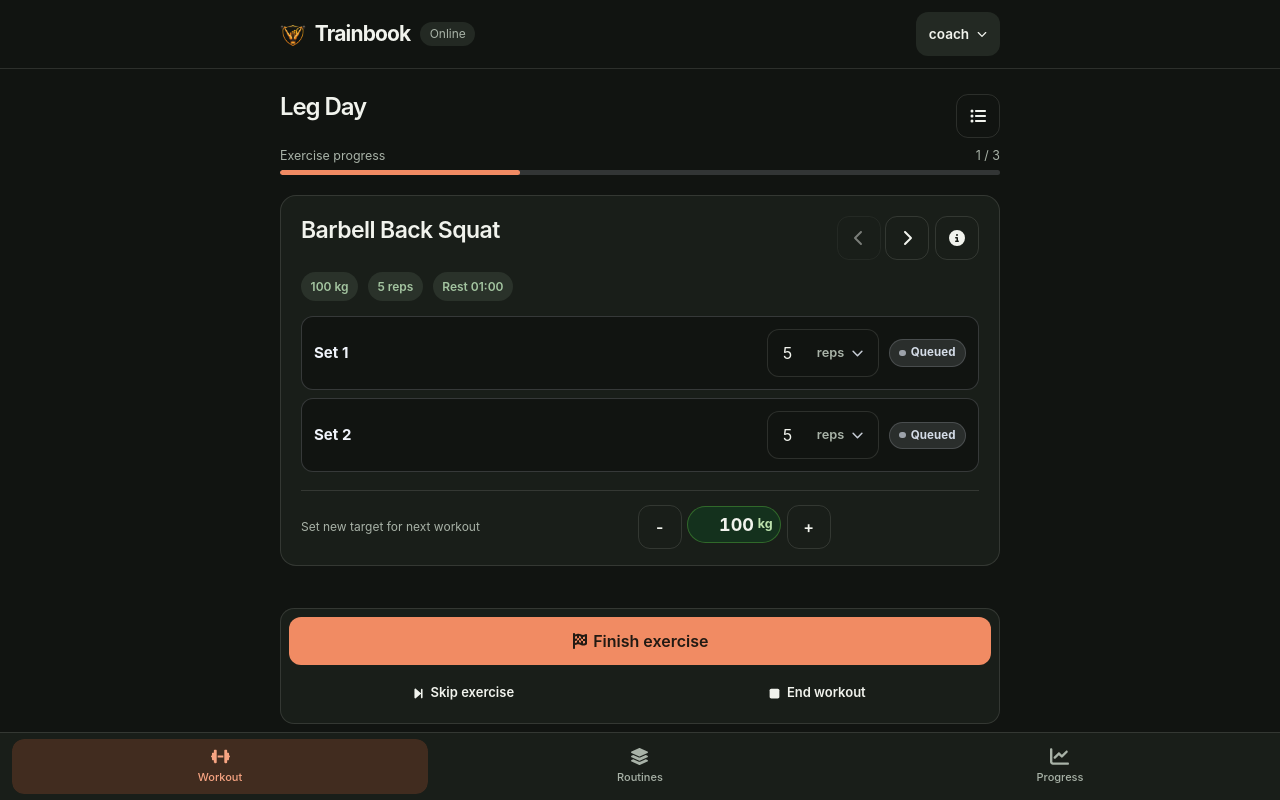
Test: App UI flows › lets you move back and forward between exercises while in workout mode
Expected: the text "Barbell Back Squat" is shown, [301, 216, 500, 245]
Expected: the button named "Previous exercise" is disabled, [837, 216, 881, 260]
Click the button named "Next exercise".
click(907, 238)  # box [885, 216, 929, 260]
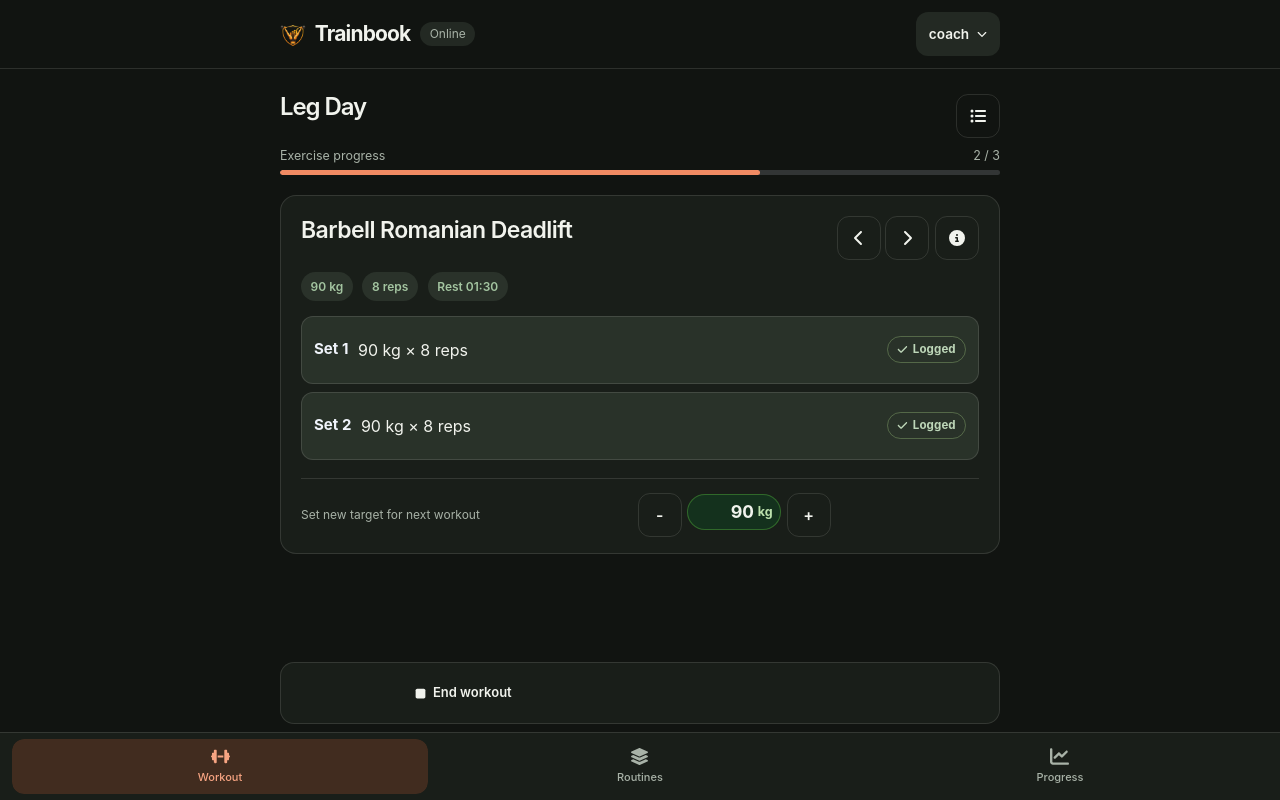
Result: the text "Barbell Romanian Deadlift" is shown at [301, 216, 572, 245]
Click the button named "Next exercise".
click(907, 238)  # box [885, 216, 929, 260]
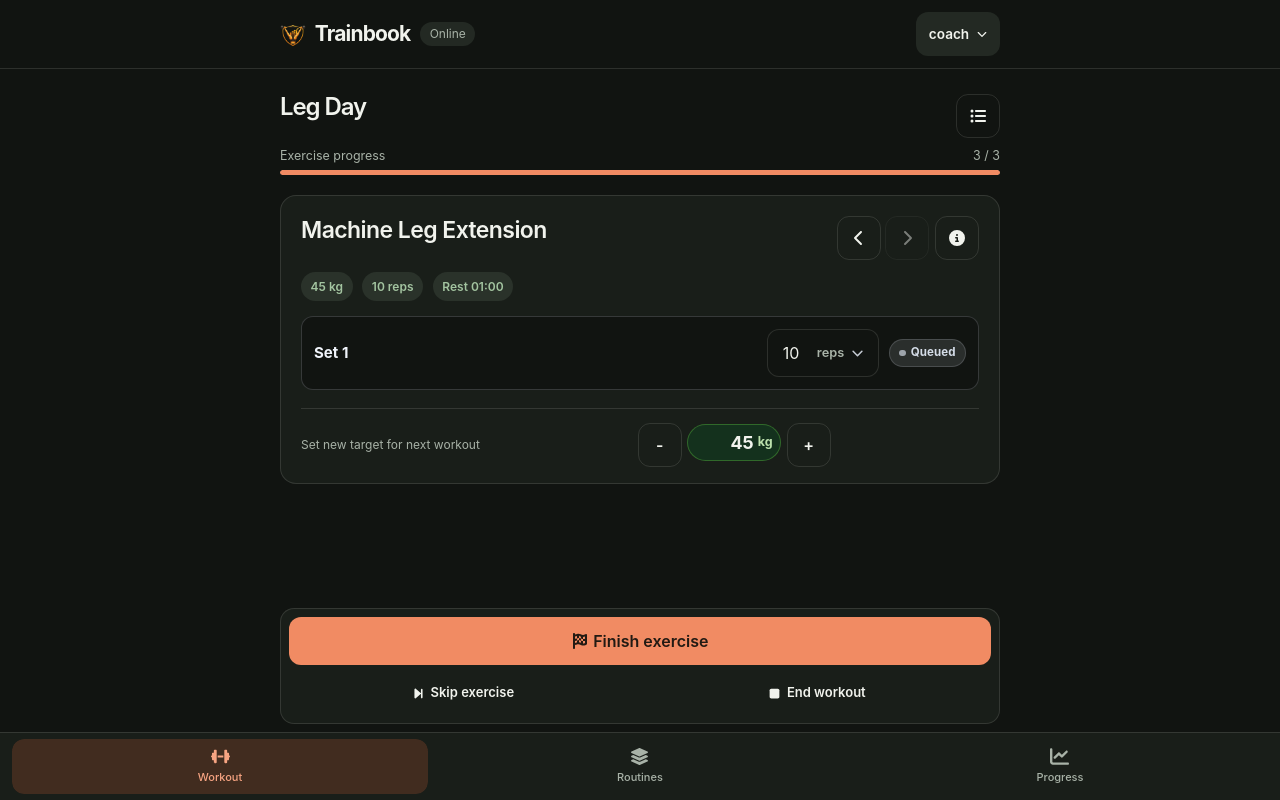
Result: the text "Machine Leg Extension" is shown at [301, 216, 547, 245]
Result: the button named "Next exercise" is disabled at [885, 216, 929, 260]
Click the button named "Previous exercise".
click(859, 238)  # box [837, 216, 881, 260]
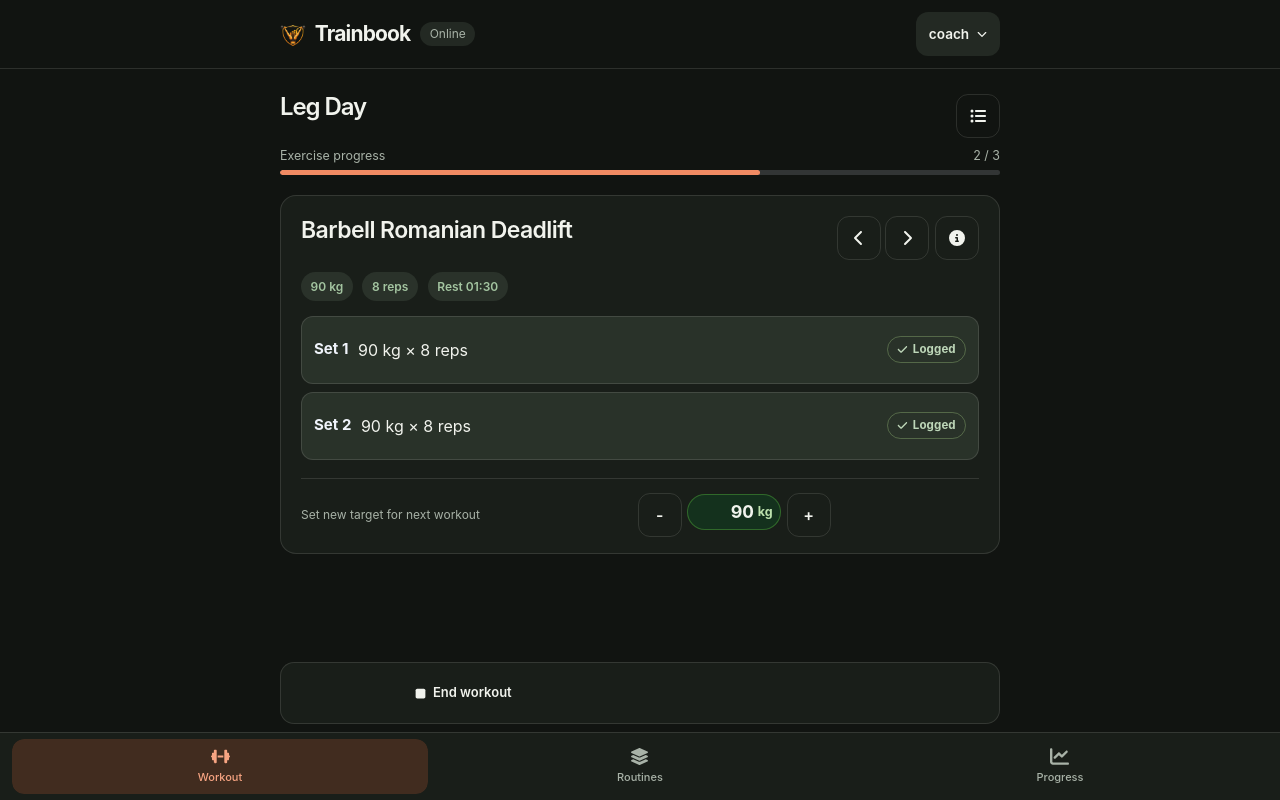
Result: the text "Barbell Romanian Deadlift" is shown at [301, 216, 572, 245]
